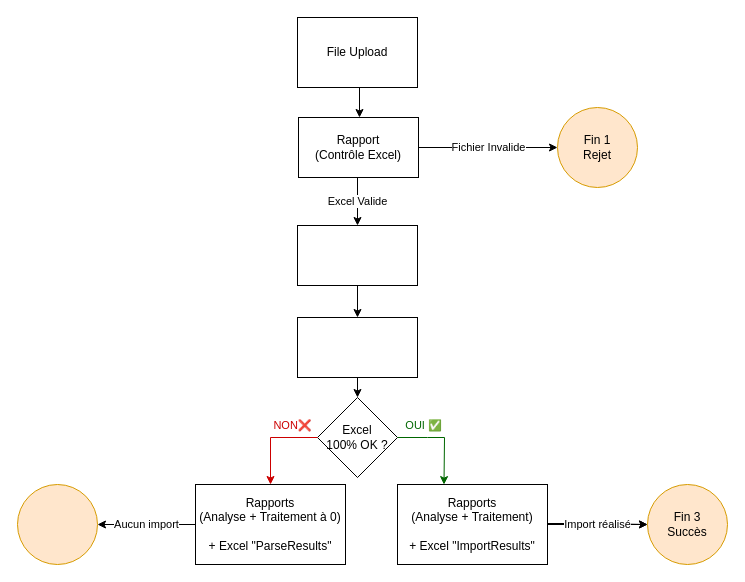
Some shapes in this 745 by 582 pixel diagram are drawn without their labels. The centre of each missing label's shape, as x and y in pixels:
"Fin 2 Erreur" goes at (x=57, y=524).
"Option + Lancement du traitement" goes at (x=357, y=255).
"Traitement en cours (attente)" goes at (x=357, y=347).
